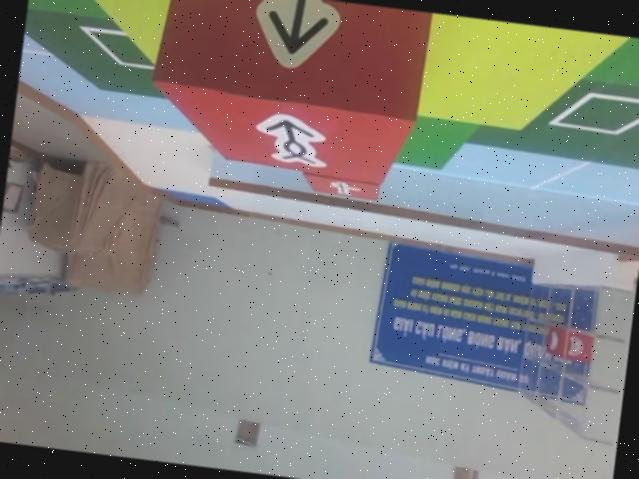R2 Real: (137, 0, 434, 190)
